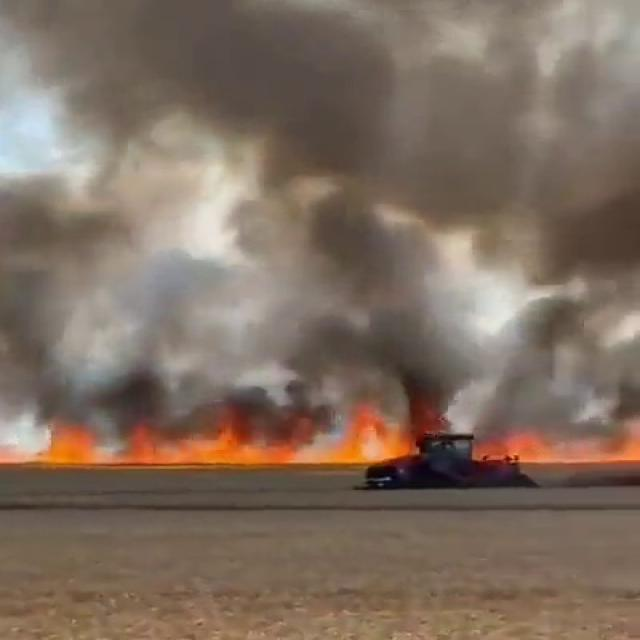Fire: (32, 425, 386, 466), (477, 426, 640, 468)
Smoke: (50, 62, 637, 412)
